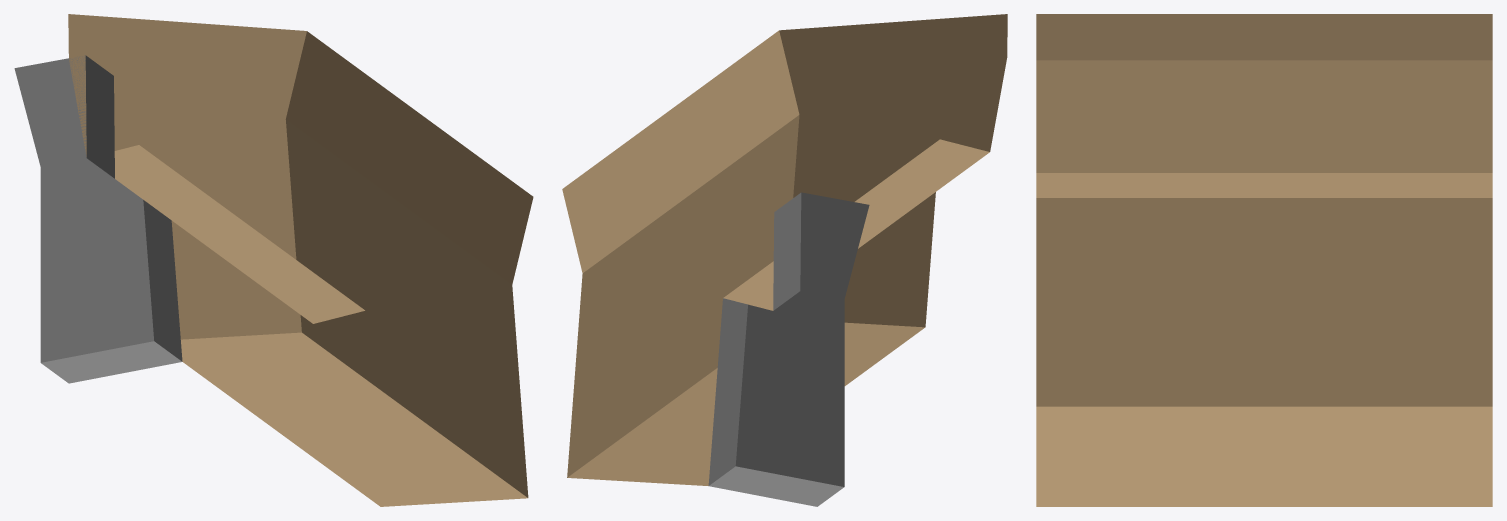
3 views of the same model, side by side, from view 1: azimuth 30°, elevation 25°; view 2: azimuth 150°, elevation 25°; view 3: azimuth 270°, elevation 25° (orthographic). The views are drawn at different scales.
Visible parts, largest first — view 1: 0_3_0_1_1_1_0_1_3_3; view 2: 0_3_0_1_1_1_0_1_3_3; view 3: 0_3_0_1_1_1_0_1_3_3.
Part boxes in pixels (left/top/right/bottom): 0_3_0_1_1_1_0_1_3_3: left=14, top=14, right=533, bottom=506; 0_3_0_1_1_1_0_1_3_3: left=562, top=14, right=1007, bottom=506; 0_3_0_1_1_1_0_1_3_3: left=1036, top=14, right=1492, bottom=506.
Bounding box in the file's own units: 17.9 × 21.95 × 24.
